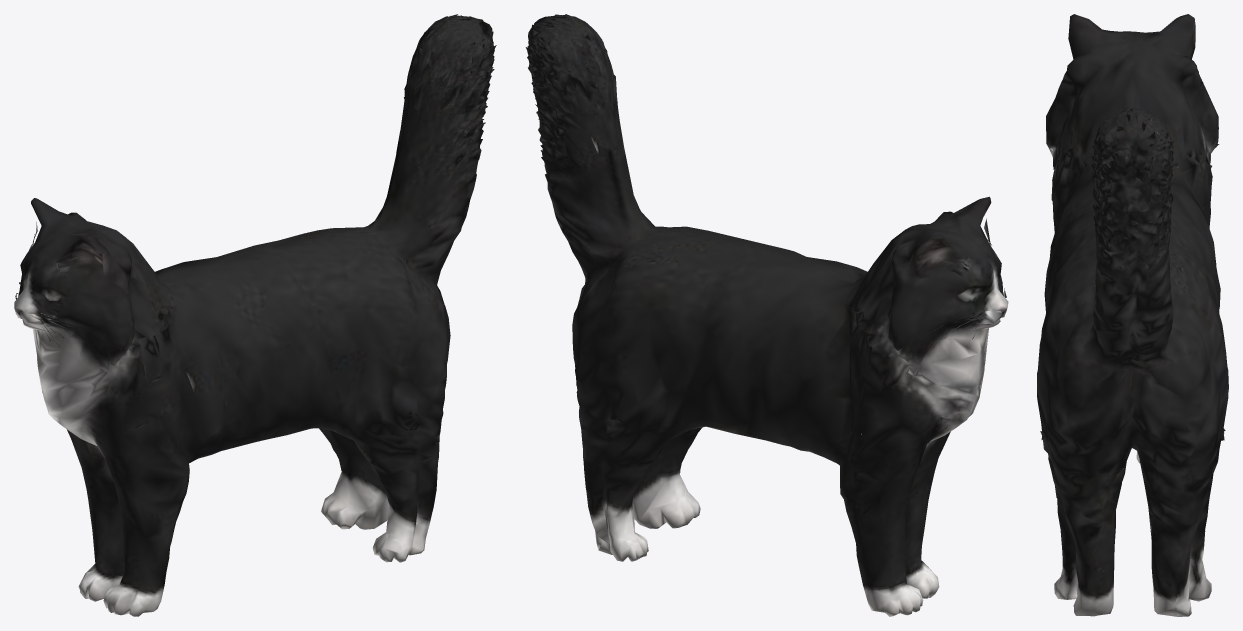
The model's file is HENRINOIR-lo.glb.
3 renders of one model, left to right at view 1: azimuth 30°, elevation 25°; view 2: azimuth 150°, elevation 25°; view 3: azimuth 270°, elevation 25°, orthographic. The views are drawn at different scales.
Parts seen in each view (by area): view 1: tripo_node_b55bda4c-caee-4173-ba8a-311d0709f423; view 2: tripo_node_b55bda4c-caee-4173-ba8a-311d0709f423; view 3: tripo_node_b55bda4c-caee-4173-ba8a-311d0709f423.
Boxes of the visible parts, left/top/right/bottom form: tripo_node_b55bda4c-caee-4173-ba8a-311d0709f423: left=14, top=14, right=496, bottom=616; tripo_node_b55bda4c-caee-4173-ba8a-311d0709f423: left=525, top=14, right=1008, bottom=616; tripo_node_b55bda4c-caee-4173-ba8a-311d0709f423: left=1037, top=14, right=1228, bottom=616.
Bounding box in the file's own units: 0.9911 × 0.9964 × 0.3218.
1 material, 1 textured.
